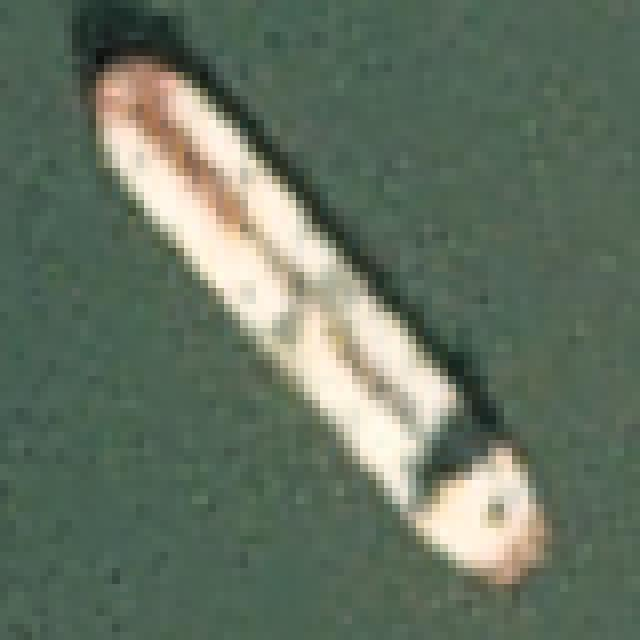ship: (53, 0, 594, 630)
